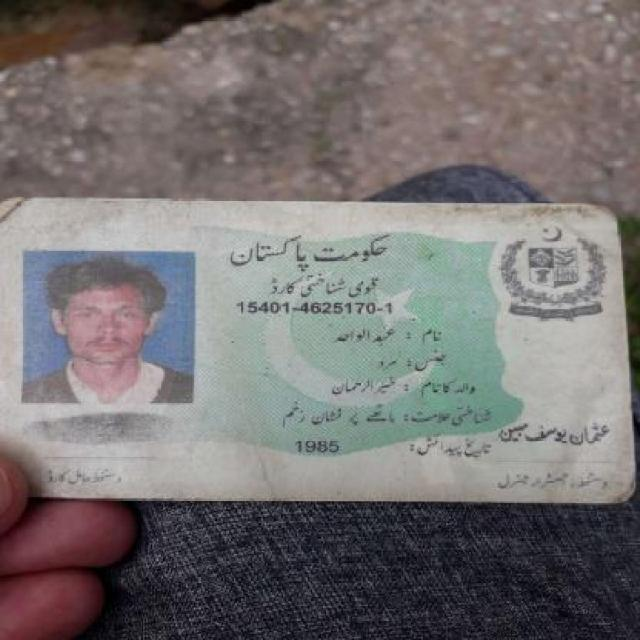Front: (9, 191, 631, 517)
